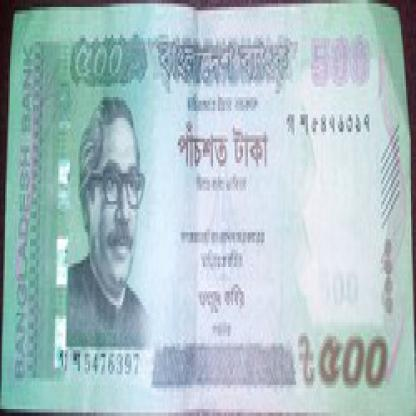500 taka: (311, 305, 403, 392), (70, 38, 136, 87)
currency: (8, 10, 413, 409)
